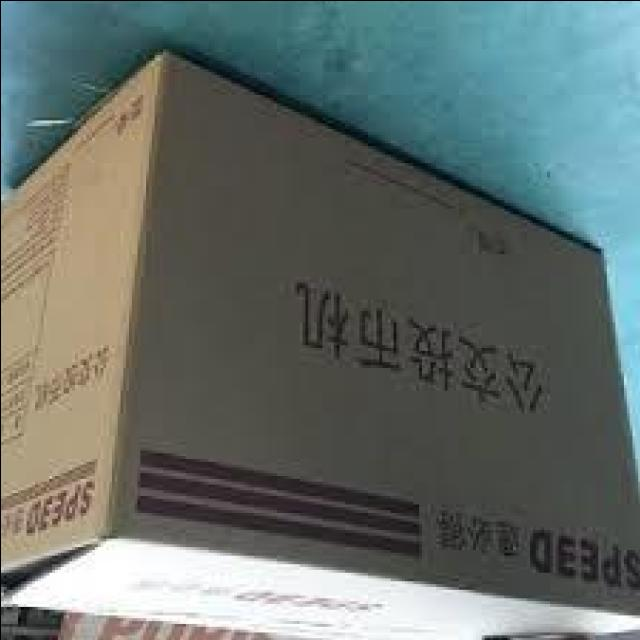-Recyclables - paper box-: (0, 49, 640, 639)
